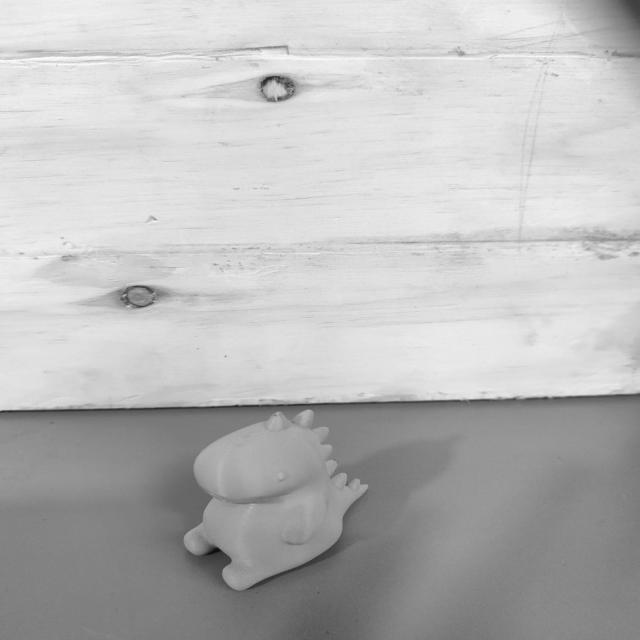DINO: (155, 399, 379, 603)
